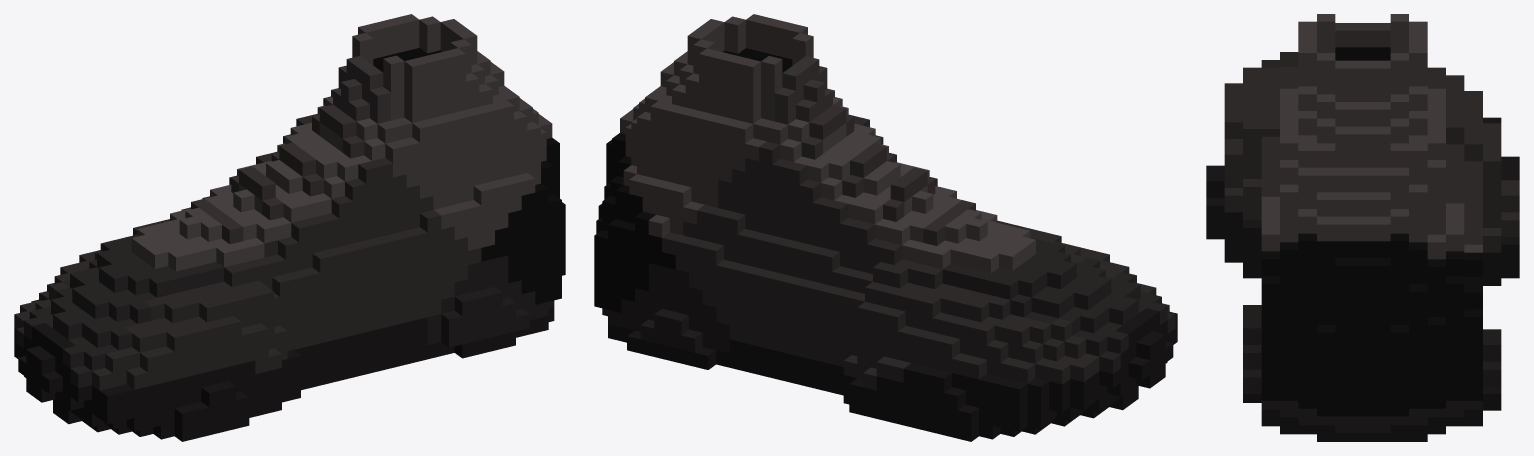
File: Nights Dream.fbx
3 views of the same model, side by side, from view 1: azimuth 30°, elevation 25°; view 2: azimuth 150°, elevation 25°; view 3: azimuth 270°, elevation 25° (orthographic). The views are drawn at different scales.
Parts seen in each view (by area): view 1: Untitled; view 2: Untitled; view 3: Untitled.
Part boxes in pixels (<box>): Untitled: <box>14,14,565,441</box>; Untitled: <box>594,14,1177,441</box>; Untitled: <box>1206,14,1519,441</box>.
Size of the model in its own units: 390 by 200 by 170.
